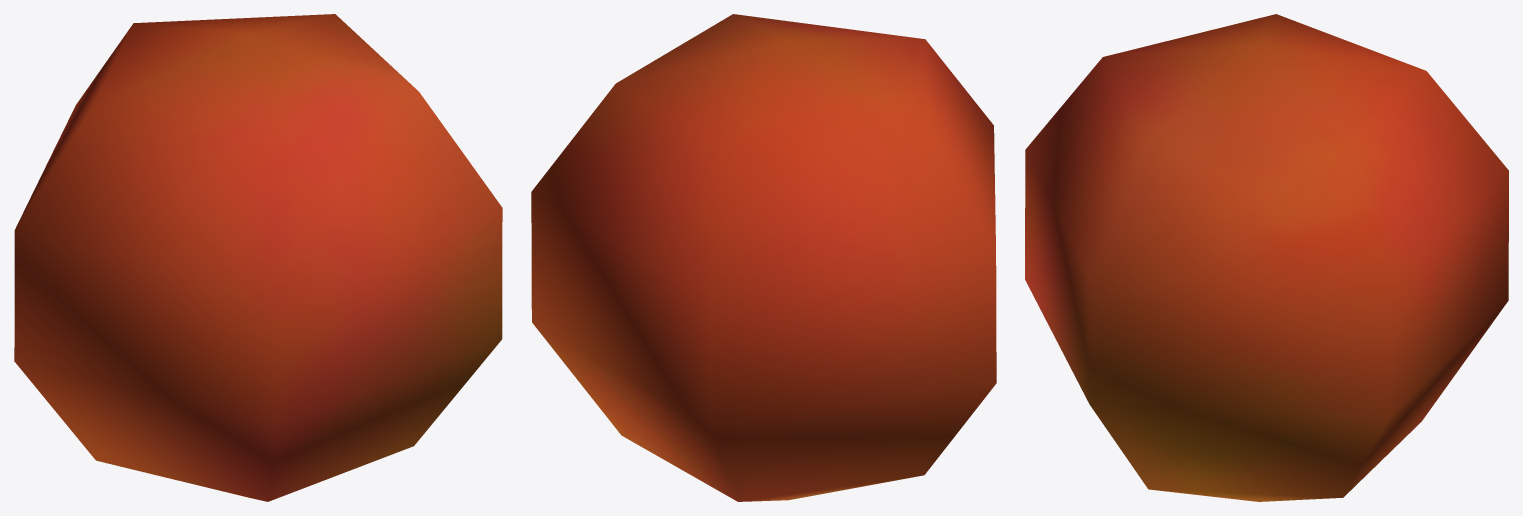
File: Item_Peach.fbx
3 renders of one model, left to right at view 1: azimuth 30°, elevation 25°; view 2: azimuth 150°, elevation 25°; view 3: azimuth 270°, elevation 25°, orthographic.
Visible parts, largest first — view 1: Item_Peach; view 2: Item_Peach; view 3: Item_Peach.
Boxes of the visible parts, x1,y1,x2,y2 form: Item_Peach: (14,14,502,501); Item_Peach: (531,14,996,501); Item_Peach: (1025,14,1508,501).
Size of the model in its own units: 23.85 by 25.37 by 24.29.
